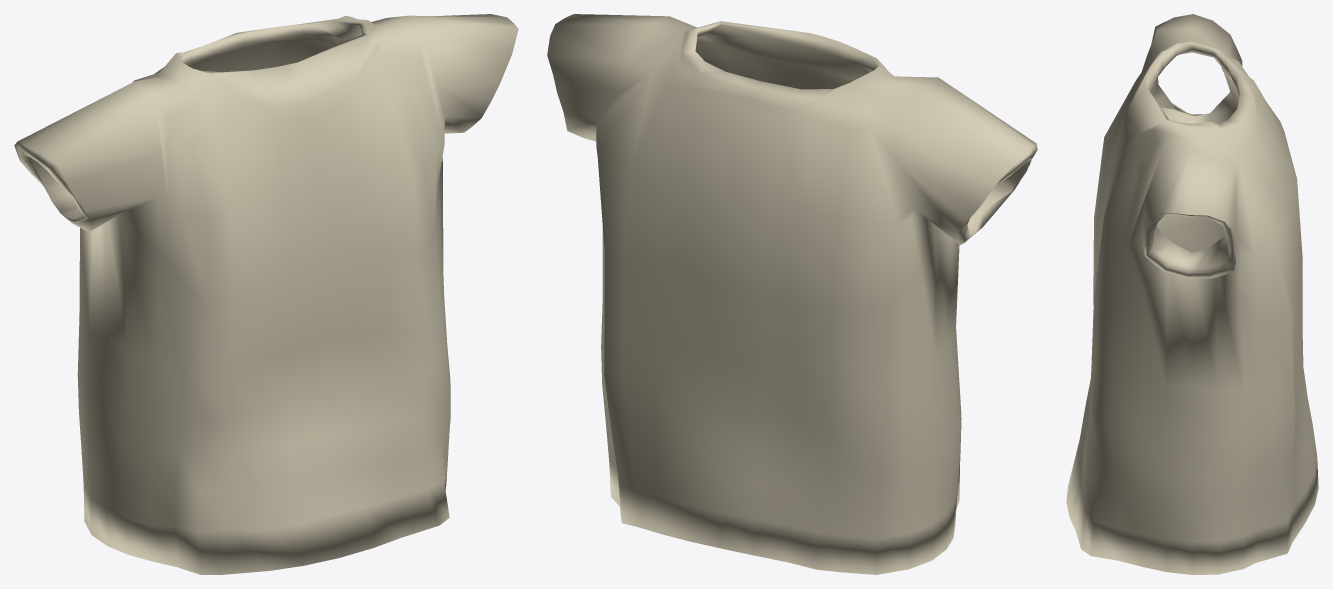
File: shirt.fbx
The picture shows the model from 3 angles, left to right: view 1: azimuth 30°, elevation 25°; view 2: azimuth 150°, elevation 25°; view 3: azimuth 270°, elevation 25°; orthographic projection. The views are drawn at different scales.
Visible parts, largest first — view 1: Shirt; view 2: Shirt; view 3: Shirt.
Boxes of the visible parts, bbox=[...] form: Shirt: bbox=[14, 14, 518, 574]; Shirt: bbox=[547, 14, 1037, 574]; Shirt: bbox=[1066, 14, 1318, 574].
Bounding box in the file's own units: 2.44 × 2.27 × 1.23.
